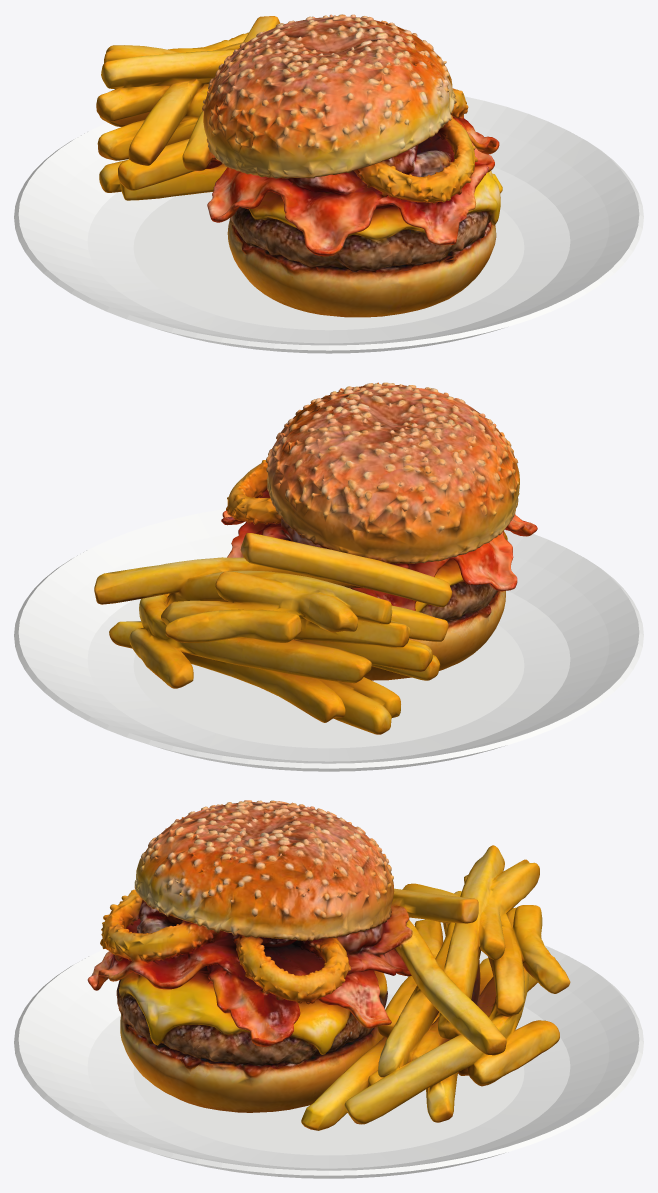
File: hamburguesa_000.glb
The picture shows the model from 3 angles, top to bottom: view 1: azimuth 30°, elevation 25°; view 2: azimuth 150°, elevation 25°; view 3: azimuth 270°, elevation 25°; orthographic projection.
Visible parts, largest first — view 1: comida, plato; view 2: comida, plato; view 3: comida, plato.
Part boxes in pixels (left/top/right/bottom): comida: left=96, top=14, right=502, bottom=317; plato: left=14, top=96, right=643, bottom=353; comida: left=94, top=382, right=537, bottom=734; plato: left=14, top=509, right=643, bottom=771; comida: left=87, top=800, right=570, bottom=1130; plato: left=14, top=917, right=643, bottom=1178.
Size of the model in its own units: 0.274 by 0.1211 by 0.274.
2 materials, 1 textured.
